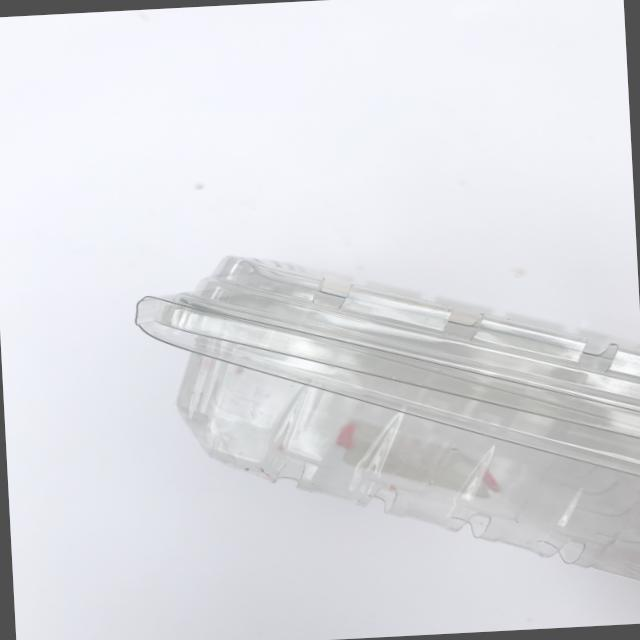Plastic: (104, 184, 640, 631)
